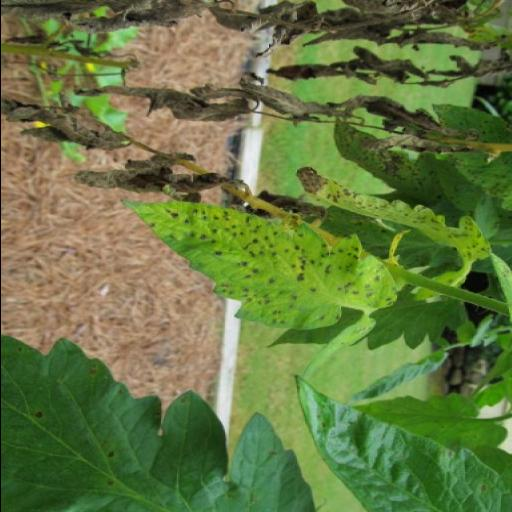disease_tomato: (0, 333, 320, 512), (122, 194, 416, 332), (294, 374, 508, 512), (292, 164, 495, 266)
